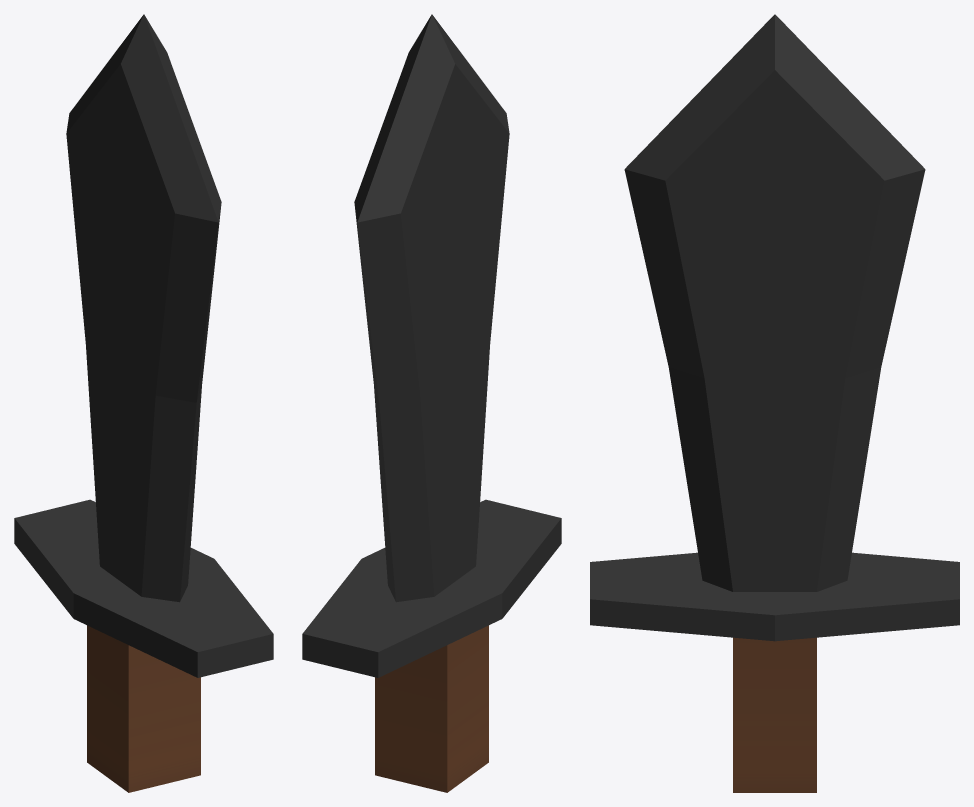
The model's file is Sword.fbx.
3 renders of one model, left to right at view 1: azimuth 30°, elevation 25°; view 2: azimuth 150°, elevation 25°; view 3: azimuth 270°, elevation 25°, orthographic.
Visible parts, largest first — view 1: Sword; view 2: Sword; view 3: Sword.
Part boxes in pixels (bbox=[...]): Sword: bbox=[14, 14, 273, 792]; Sword: bbox=[302, 14, 561, 792]; Sword: bbox=[590, 14, 959, 792].
Size of the model in its own units: 0.0889 by 0.2004 by 0.4551.
